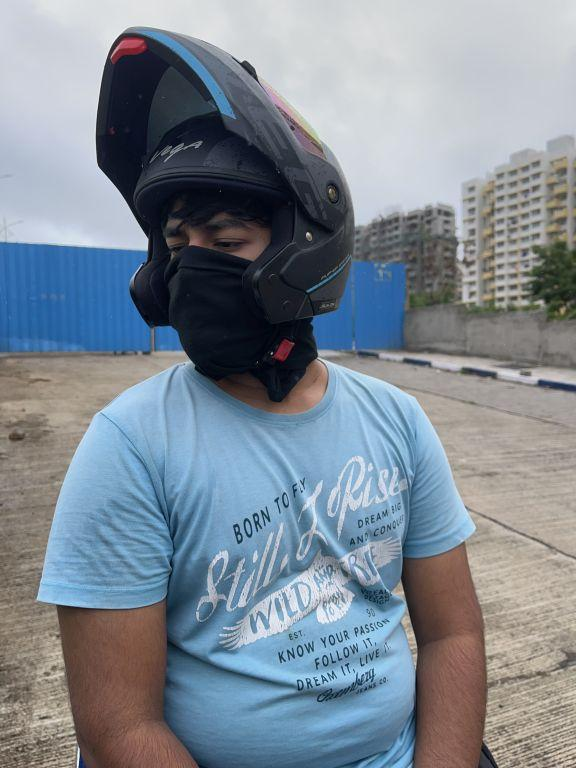helmet: (72, 9, 366, 387)
